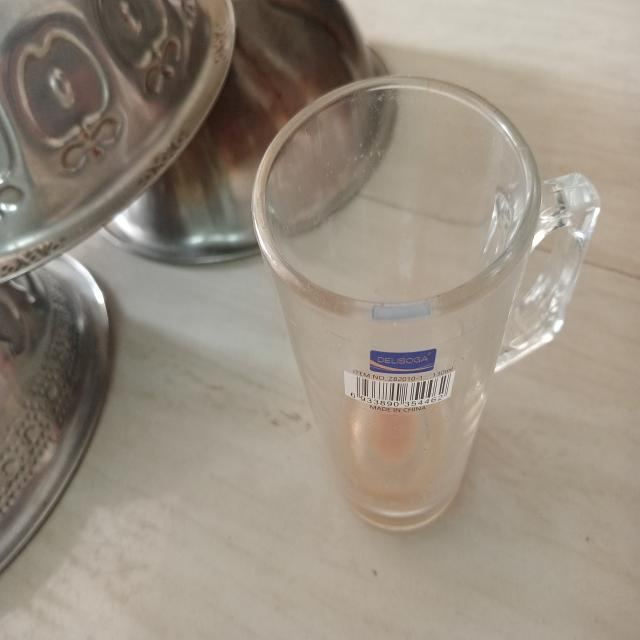glass-VX4N: (251, 82, 598, 534)
